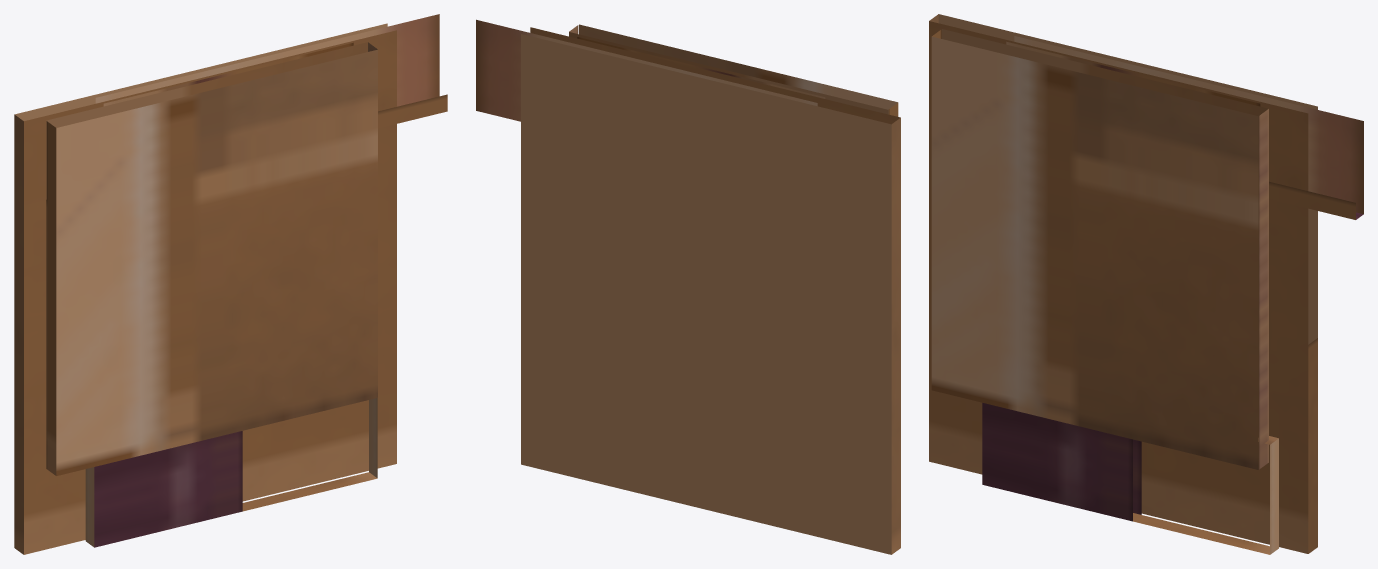
Rendered from section-7.obj.
The picture shows the model from 3 angles, left to right: view 1: azimuth 30°, elevation 25°; view 2: azimuth 150°, elevation 25°; view 3: azimuth 330°, elevation 25°; orthographic projection. The views are drawn at different scales.
Bounding box in the file's own units: 0.7685 × 0.7568 × 0.0771.
